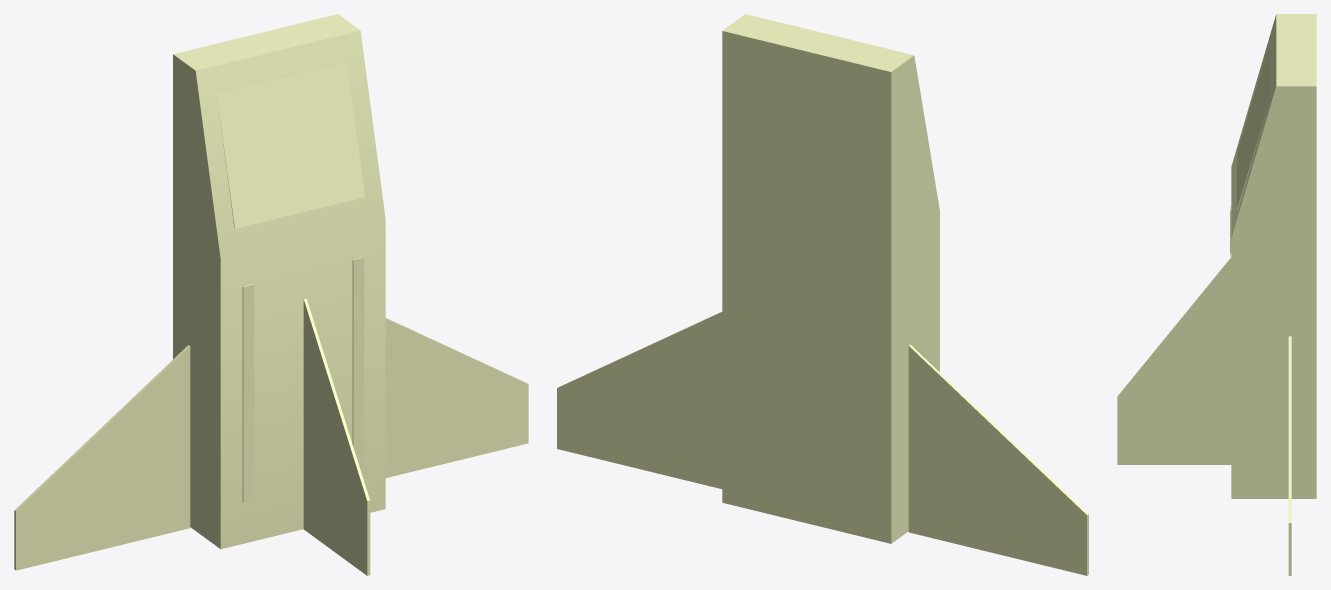
File: newNewPlayer.obj
The picture shows the model from 3 angles, left to right: view 1: azimuth 30°, elevation 25°; view 2: azimuth 150°, elevation 25°; view 3: azimuth 270°, elevation 25°; orthographic projection. The views are drawn at different scales.
Visible parts, largest first — view 1: Box002, Line001, Box003, Line002, Line003, Box004, Box005; view 2: Box002, Line001, Line002; view 3: Box002, Line003, Box003, Line002, Box005.
Boxes of the visible parts, box(x1,y1,x2,y2) form: Box002: box(173, 14, 385, 549); Line001: box(14, 345, 190, 570); Box003: box(216, 62, 364, 228); Line002: box(385, 318, 528, 477); Line003: box(303, 298, 370, 575); Box004: box(242, 284, 254, 502); Box005: box(352, 257, 364, 473); Box002: box(722, 14, 939, 543); Line001: box(908, 344, 1088, 575); Line002: box(557, 312, 722, 488); Box002: box(1231, 14, 1316, 498); Line003: box(1117, 259, 1231, 464); Box003: box(1237, 44, 1269, 209); Line002: box(1288, 336, 1291, 575); Box005: box(1230, 253, 1231, 451).
Size of the model in its own units: 46.81 by 40.04 by 17.5.
